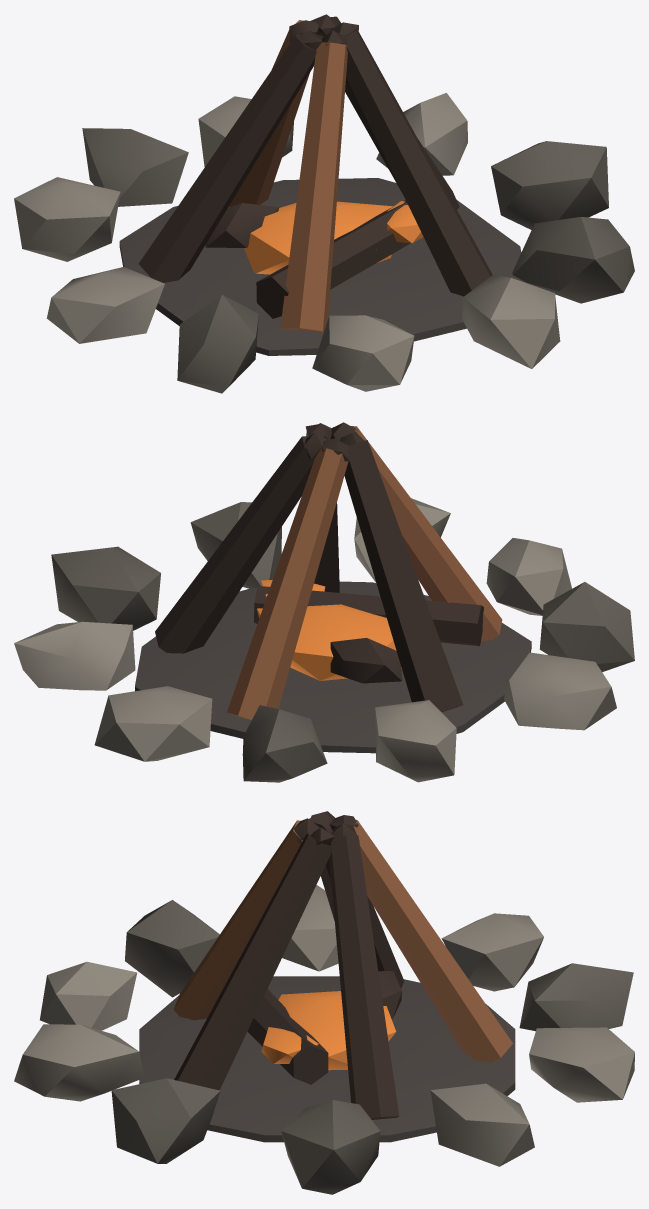
File: rest_campfire.fbx
3 renders of one model, top to bottom at view 1: azimuth 30°, elevation 25°; view 2: azimuth 150°, elevation 25°; view 3: azimuth 270°, elevation 25°, orthographic. The views are drawn at different scales.
Parts seen in each view (by area): view 1: rest_campfire; view 2: rest_campfire; view 3: rest_campfire.
Part boxes in pixels (left/top/right/bottom): rest_campfire: left=14, top=14, right=634, bottom=393; rest_campfire: left=14, top=422, right=634, bottom=782; rest_campfire: left=14, top=811, right=634, bottom=1194.
Size of the model in its own units: 1.96 by 0.8971 by 1.88.
